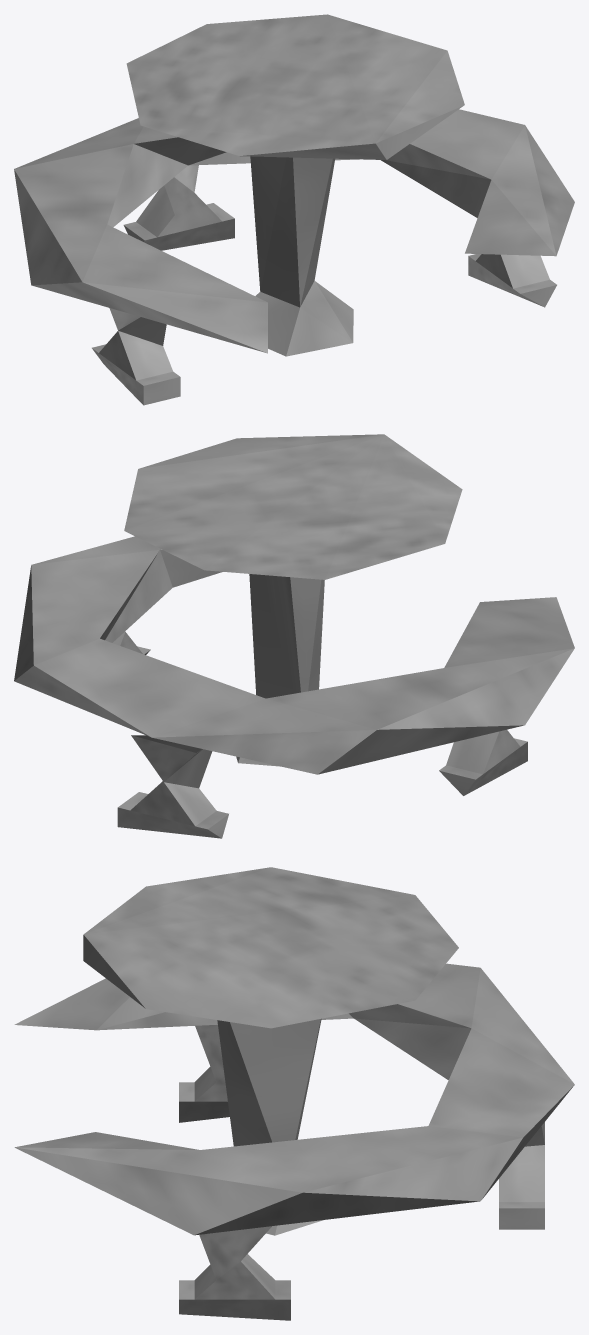
Rendered from MesaPedraLOD1.fbx.
3 renders of one model, top to bottom at view 1: azimuth 30°, elevation 25°; view 2: azimuth 150°, elevation 25°; view 3: azimuth 270°, elevation 25°, orthographic. The views are drawn at different scales.
Parts seen in each view (by area): view 1: MesaDeConcretoLOD1; view 2: MesaDeConcretoLOD1; view 3: MesaDeConcretoLOD1.
Part boxes in pixels (x1,y1,x2,y2): MesaDeConcretoLOD1: (14, 14, 574, 405); MesaDeConcretoLOD1: (14, 434, 574, 838); MesaDeConcretoLOD1: (14, 867, 574, 1320).
Size of the model in its own units: 204 by 98.09 by 186.
